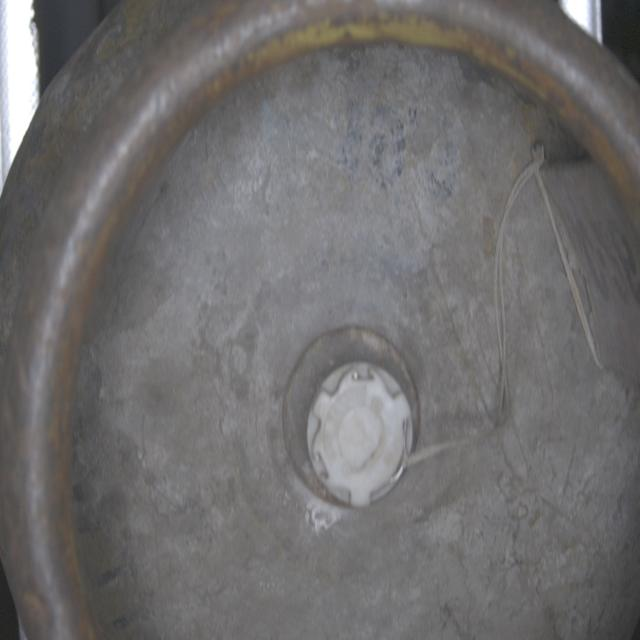Cap: (302, 359, 416, 513)
